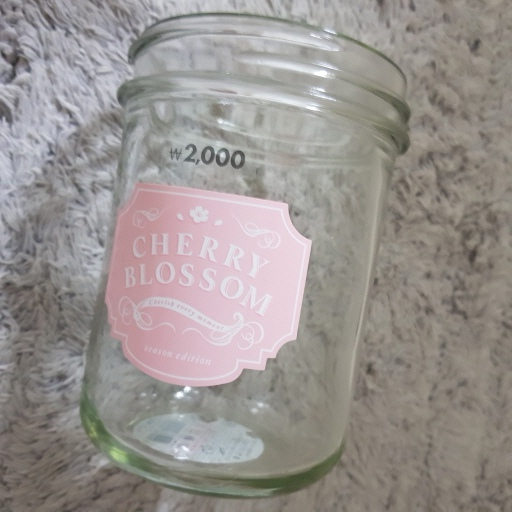Glass_5: (78, 11, 415, 490)
